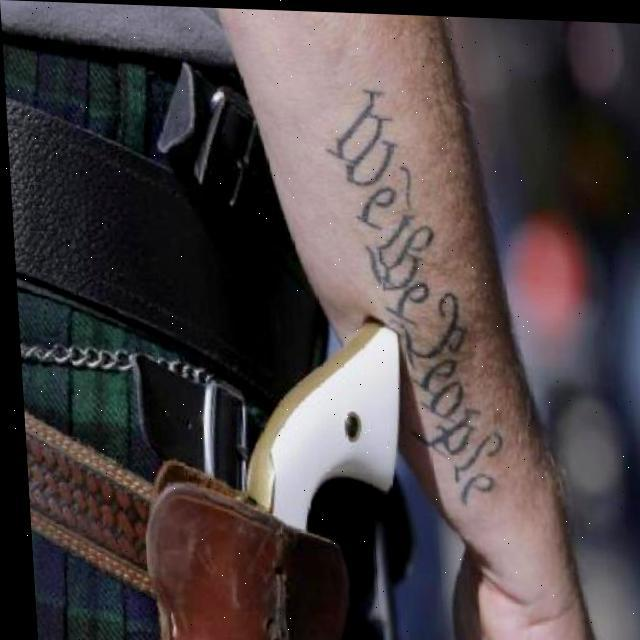gun: (113, 318, 416, 640)
